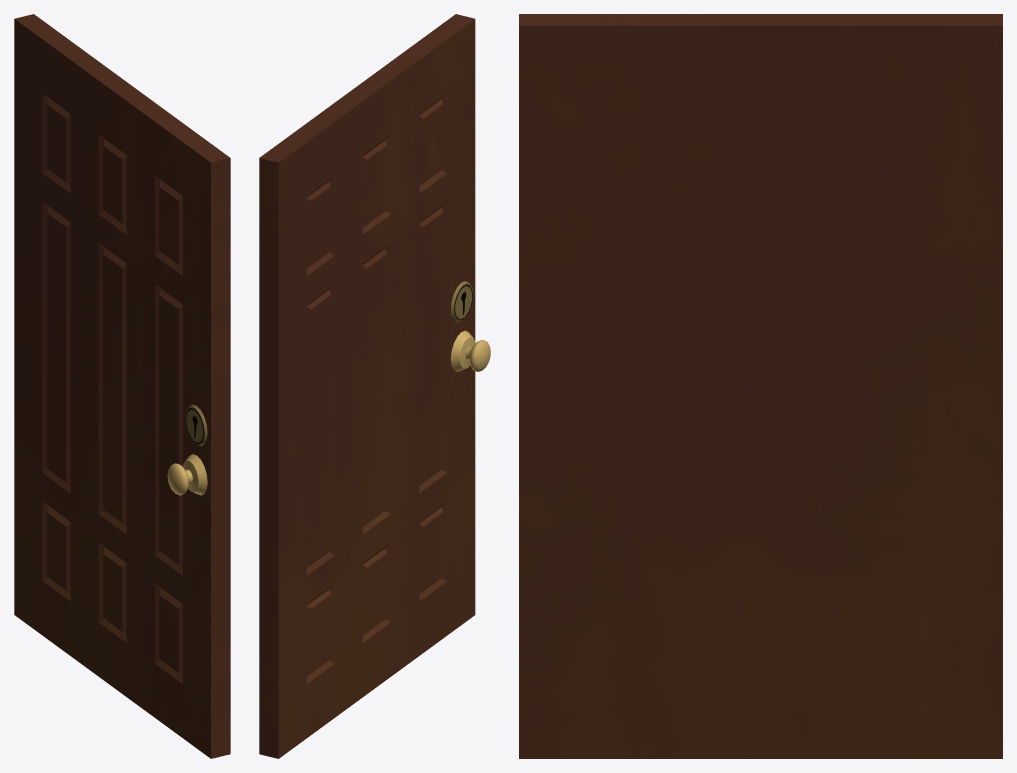
Rendered from LucasTan_door.fbx.
3 views of the same model, side by side, from view 1: azimuth 30°, elevation 25°; view 2: azimuth 150°, elevation 25°; view 3: azimuth 270°, elevation 25° (orthographic). The views are drawn at different scales.
Parts seen in each view (by area): view 1: door2; view 2: door2; view 3: door2.
Part boxes in pixels (x1,y1,x2,y2): door2: (14,14,230,758); door2: (259,14,490,758); door2: (519,14,1002,758).
Bounding box in the file's own units: 0.1753 × 2.21 × 1.32.
